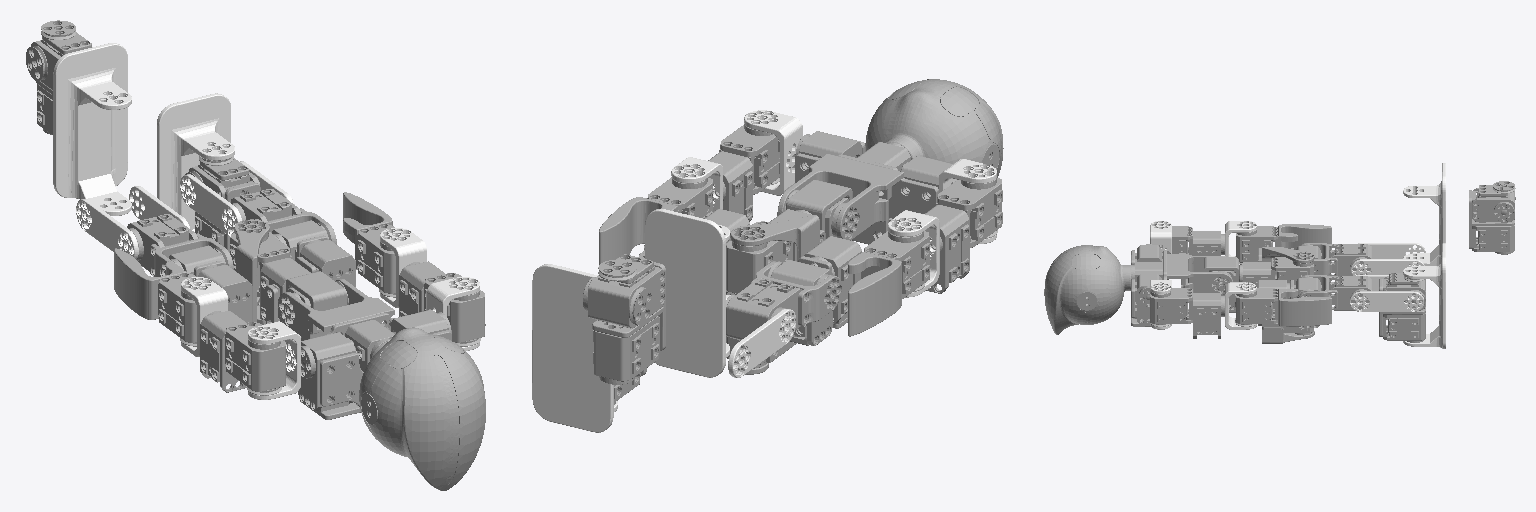
--- Facts derived from the render (not from the file) ---
The picture shows the robot from 3 angles, left to right: view 1: azimuth 30°, elevation 25°; view 2: azimuth 150°, elevation 25°; view 3: azimuth 270°, elevation 25°; orthographic projection.
Model Fendi_humanoid with 24 links and 23 joints (22 revolute, 1 continuous), rooted at pelvis, posed every joint at zero.
Visible links, largest first — view 1: head, l_foot, chest, r_foot, l_shoulder_motor, l_forearm, r_forearm, r_shoulder_motor, l_hip, l_ankle, l_thigh, l_knee (+12 smaller); view 2: l_foot, r_foot, chest, head, l_ankle, l_forearm, l_shoulder_motor, l_thigh, r_forearm, r_shoulder_motor, l_hip, pelvis (+8 smaller); view 3: head, chest, r_forearm, l_ankle, r_shoulder_motor, r_ankle, l_forearm, pelvis, l_knee, l_thigh, r_knee, r_foot (+8 smaller).
Link boxes in pixels (box(x1,y1,x2,y2)): head: box(359, 327, 485, 490); l_foot: box(53, 43, 131, 215); chest: box(278, 279, 451, 419); r_foot: box(157, 93, 234, 231); l_shoulder_motor: box(200, 311, 285, 395); l_forearm: box(114, 248, 196, 346); r_forearm: box(343, 192, 395, 297); r_shoulder_motor: box(399, 261, 485, 346); l_hip: box(198, 219, 269, 322); l_ankle: box(26, 20, 91, 134); l_thigh: box(127, 214, 233, 276); l_knee: box(76, 186, 189, 259); l_foot: box(645, 209, 729, 377); r_foot: box(532, 264, 617, 432); chest: box(777, 131, 952, 244); head: box(865, 79, 1003, 177); l_ankle: box(583, 254, 665, 384); l_forearm: box(848, 231, 929, 336); l_shoulder_motor: box(925, 178, 1002, 293); l_thigh: box(726, 261, 841, 340); r_forearm: box(599, 177, 712, 264); r_shoulder_motor: box(708, 124, 779, 221); l_hip: box(730, 215, 861, 328); pelvis: box(726, 209, 825, 368); head: box(1044, 245, 1130, 334); chest: box(1131, 244, 1232, 326); r_forearm: box(1235, 288, 1331, 326); l_ankle: box(1469, 181, 1515, 254); r_shoulder_motor: box(1150, 288, 1224, 338); r_ankle: box(1379, 273, 1425, 342); l_forearm: box(1235, 224, 1331, 264); pelvis: box(1239, 257, 1313, 335); l_knee: box(1351, 243, 1425, 275); l_thigh: box(1301, 243, 1371, 275); r_knee: box(1350, 275, 1423, 311); r_foot: box(1403, 243, 1445, 348).
Size in the robot's own frame: 0.1546 by 0.3968 by 0.1386 metres.
Meshes: 24 distinct files referenced, 24 mesh visuals loaded (24 binary STL).

URDF robot description (Fendi_humanoid):
<robot
  name="Fendi_humanoid">
  <link
    name="pelvis">
    <inertial>
      <origin
        xyz="0.0410669745819321 -0.0379110717402652 0.0421828125034158"
        rpy="0 0 0" />
      <mass
        value="0.0572942260553945" />
      <inertia
        ixx="3.65121025707978E-05"
        ixy="2.9900783694598E-07"
        ixz="4.85882286230638E-07"
        iyy="2.12489482613664E-05"
        iyz="-3.35587468839814E-06"
        izz="2.000430429396E-05" />
    </inertial>
    <visual>
      <origin
        xyz="0 0 0"
        rpy="0 0 0" />
      <geometry>
        <mesh
          filename="package://meshes/pelvis.STL" />
      </geometry>
      <material
        name="">
        <color
          rgba="0.752941176470588 0.752941176470588 0.752941176470588 1" />
      </material>
    </visual>
    <collision>
      <origin
        xyz="0 0 0"
        rpy="0 0 0" />
      <geometry>
        <mesh
          filename="package://meshes/pelvis.STL" />
      </geometry>
    </collision>
  </link>
  <link
    name="l_hip">
    <inertial>
      <origin
        xyz="-0.0270835640140282 0.0231158477663268 0.0237291455019634"
        rpy="0 0 0" />
      <mass
        value="0.0238887563110607" />
      <inertia
        ixx="5.49518226158328E-06"
        ixy="6.8290703807493E-07"
        ixz="-1.00493628454709E-06"
        iyy="4.44318183140713E-06"
        iyz="-4.3109955469561E-07"
        izz="6.2772843076379E-06" />
    </inertial>
    <visual>
      <origin
        xyz="0 0 0"
        rpy="0 0 0" />
      <geometry>
        <mesh
          filename="package://meshes/l_hip.STL" />
      </geometry>
      <material
        name="">
        <color
          rgba="0.752941176470588 0.752941176470588 0.752941176470588 1" />
      </material>
    </visual>
    <collision>
      <origin
        xyz="0 0 0"
        rpy="0 0 0" />
      <geometry>
        <mesh
          filename="package://meshes/l_hip.STL" />
      </geometry>
    </collision>
  </link>
  <joint
    name="l_hip_y"
    type="revolute">
    <origin
      xyz="0.0416518518525676 -0.0188002160308141 0.0267433423130832"
      rpy="1.5707963267949 0 0" />
    <parent
      link="pelvis" />
    <child
      link="l_hip" />
    <axis
      xyz="0 -1 0" />
  </joint>
  <link
    name="l_hip_motor">
    <inertial>
      <origin
        xyz="-6.01409748791065E-05 -0.00776762181170506 -0.00281391609679076"
        rpy="0 0 0" />
      <mass
        value="0.0191896773969032" />
      <inertia
        ixx="2.72857317938081E-06"
        ixy="-1.41373715165931E-08"
        ixz="1.36917622383183E-09"
        iyy="1.92531751945142E-06"
        iyz="-8.27044796155279E-08"
        izz="2.84890029696111E-06" />
    </inertial>
    <visual>
      <origin
        xyz="0 0 0"
        rpy="0 0 0" />
      <geometry>
        <mesh
          filename="package://meshes/l_hip_motor.STL" />
      </geometry>
      <material
        name="">
        <color
          rgba="0.752941176470588 0.752941176470588 0.752941176470588 1" />
      </material>
    </visual>
    <collision>
      <origin
        xyz="0 0 0"
        rpy="0 0 0" />
      <geometry>
        <mesh
          filename="package://meshes/l_hip_motor.STL" />
      </geometry>
    </collision>
  </link>
  <joint
    name="l_hip_motor_z"
    type="revolute">
    <origin
      xyz="-0.0319999999999984 0.03 0"
      rpy="0 0 0" />
    <parent
      link="l_hip" />
    <child
      link="l_hip_motor" />
    <axis
      xyz="0 0 -1" />
  </joint>
  <link
    name="l_thigh">
    <inertial>
      <origin
        xyz="-8.92757280601675E-09 -0.0335554544923508 -5.61776243110483E-05"
        rpy="0 0 0" />
      <mass
        value="0.0205479194607194" />
      <inertia
        ixx="5.39136068968386E-06"
        ixy="-2.47620945227249E-12"
        ixz="-1.88429695992604E-11"
        iyy="2.40527919108636E-06"
        iyz="1.83766538429752E-08"
        izz="4.40731135554231E-06" />
    </inertial>
    <visual>
      <origin
        xyz="0 0 0"
        rpy="0 0 0" />
      <geometry>
        <mesh
          filename="package://meshes/l_thigh.STL" />
      </geometry>
      <material
        name="">
        <color
          rgba="0.752941176470588 0.752941176470588 0.752941176470588 1" />
      </material>
    </visual>
    <collision>
      <origin
        xyz="0 0 0"
        rpy="0 0 0" />
      <geometry>
        <mesh
          filename="package://meshes/l_thigh.STL" />
      </geometry>
    </collision>
  </link>
  <joint
    name="l_thigh_x"
    type="revolute">
    <origin
      xyz="0 0 -0.00400000000000341"
      rpy="1.5707963267949 0 1.5707963267949" />
    <parent
      link="l_hip_motor" />
    <child
      link="l_thigh" />
    <axis
      xyz="0 0 -1" />
  </joint>
  <link
    name="l_knee">
    <inertial>
      <origin
        xyz="-1.07050958375599E-10 0.0225000000000239 6.77062572673748E-15"
        rpy="0 0 0" />
      <mass
        value="0.00513087567995406" />
      <inertia
        ixx="2.59601739840765E-06"
        ixy="2.71910445336982E-19"
        ixz="-2.24165387751632E-19"
        iyy="1.53262832182676E-06"
        iyz="-1.57621864056051E-21"
        izz="1.34541992010939E-06" />
    </inertial>
    <visual>
      <origin
        xyz="0 0 0"
        rpy="0 0 0" />
      <geometry>
        <mesh
          filename="package://meshes/l_knee.STL" />
      </geometry>
      <material
        name="">
        <color
          rgba="1 1 1 1" />
      </material>
    </visual>
    <collision>
      <origin
        xyz="0 0 0"
        rpy="0 0 0" />
      <geometry>
        <mesh
          filename="package://meshes/l_knee.STL" />
      </geometry>
    </collision>
  </link>
  <joint
    name="l_knee_x"
    type="continuous">
    <origin
      xyz="0 -0.0449999999999764 0"
      rpy="-3.14159265358979 0 0" />
    <parent
      link="l_thigh" />
    <child
      link="l_knee" />
    <axis
      xyz="0 0 1" />
  </joint>
  <link
    name="l_ankle">
    <inertial>
      <origin
        xyz="0.0124831744421505 0.00877126170541725 -0.000110062280334439"
        rpy="0 0 0" />
      <mass
        value="0.0401544687611881" />
      <inertia
        ixx="6.22341129865557E-06"
        ixy="1.13806252097559E-07"
        ixz="-3.6295522775002E-08"
        iyy="1.1354072686787E-05"
        iyz="2.17409044982689E-08"
        izz="1.39792054648314E-05" />
    </inertial>
    <visual>
      <origin
        xyz="0 0 0"
        rpy="0 0 0" />
      <geometry>
        <mesh
          filename="package://meshes/l_ankle.STL" />
      </geometry>
      <material
        name="">
        <color
          rgba="0.752941176470588 0.752941176470588 0.752941176470588 1" />
      </material>
    </visual>
    <collision>
      <origin
        xyz="0 0 0"
        rpy="0 0 0" />
      <geometry>
        <mesh
          filename="package://meshes/l_ankle.STL" />
      </geometry>
    </collision>
  </link>
  <joint
    name="l_ankle_x"
    type="revolute">
    <origin
      xyz="0 0.0450000000000011 0"
      rpy="3.46944695195361E-16 0 3.14159265358979" />
    <parent
      link="l_knee" />
    <child
      link="l_ankle" />
    <axis
      xyz="0 0 1" />
  </joint>
  <link
    name="l_foot">
    <inertial>
      <origin
        xyz="-0.00642333988990459 0.0209235049680599 3.33167952695276E-05"
        rpy="0 0 0" />
      <mass
        value="0.0202605378538181" />
      <inertia
        ixx="3.14268429568419E-06"
        ixy="3.92584853218248E-07"
        ixz="-3.79765019585263E-09"
        iyy="1.48123918460857E-05"
        iyz="4.33508550121308E-10"
        izz="1.35313300236987E-05" />
    </inertial>
    <visual>
      <origin
        xyz="0 0 0"
        rpy="0 0 0" />
      <geometry>
        <mesh
          filename="package://meshes/l_foot.STL" />
      </geometry>
      <material
        name="">
        <color
          rgba="1 1 1 1" />
      </material>
    </visual>
    <collision>
      <origin
        xyz="0 0 0"
        rpy="0 0 0" />
      <geometry>
        <mesh
          filename="package://meshes/l_foot.STL" />
      </geometry>
    </collision>
  </link>
  <joint
    name="l_foot_y"
    type="revolute">
    <origin
      xyz="0 0 -0.000199999999993367"
      rpy="2.94902990916057E-15 0 3.14159265358979" />
    <parent
      link="l_ankle" />
    <child
      link="l_foot" />
    <axis
      xyz="-1 0 0" />
  </joint>
  <link
    name="r_hip">
    <inertial>
      <origin
        xyz="0.0267918410324553 0.0384453640375394 0.0237344523826482"
        rpy="0 0 0" />
      <mass
        value="0.0247517363559943" />
      <inertia
        ixx="7.94295695056937E-06"
        ixy="2.1425049431127E-06"
        ixz="1.03734145559542E-06"
        iyy="4.5972428305968E-06"
        iyz="8.17998732601026E-07"
        izz="8.74766806042518E-06" />
    </inertial>
    <visual>
      <origin
        xyz="0 0 0"
        rpy="0 0 0" />
      <geometry>
        <mesh
          filename="package://meshes/r_hip.STL" />
      </geometry>
      <material
        name="">
        <color
          rgba="0.752941176470588 0.752941176470588 0.752941176470588 1" />
      </material>
    </visual>
    <collision>
      <origin
        xyz="0 0 0"
        rpy="0 0 0" />
      <geometry>
        <mesh
          filename="package://meshes/r_hip.STL" />
      </geometry>
    </collision>
  </link>
  <joint
    name="r_hipy"
    type="revolute">
    <origin
      xyz="0.0416518518525676 -0.0188002160308141 0.00374334231308317"
      rpy="1.5707963267949 0 0" />
    <parent
      link="pelvis" />
    <child
      link="r_hip" />
    <axis
      xyz="0 -1 0" />
  </joint>
  <link
    name="r_hip_motor">
    <inertial>
      <origin
        xyz="-6.01409748823556E-05 -0.00776762181170462 -0.00281391609678699"
        rpy="0 0 0" />
      <mass
        value="0.0191896773969032" />
      <inertia
        ixx="2.72857317938081E-06"
        ixy="-1.4137371516593E-08"
        ixz="1.36917622383048E-09"
        iyy="1.92531751945142E-06"
        iyz="-8.27044796155279E-08"
        izz="2.84890029696111E-06" />
    </inertial>
    <visual>
      <origin
        xyz="0 0 0"
        rpy="0 0 0" />
      <geometry>
        <mesh
          filename="package://meshes/r_hip_motor.STL" />
      </geometry>
      <material
        name="">
        <color
          rgba="0.752941176470588 0.752941176470588 0.752941176470588 1" />
      </material>
    </visual>
    <collision>
      <origin
        xyz="0 0 0"
        rpy="0 0 0" />
      <geometry>
        <mesh
          filename="package://meshes/r_hip_motor.STL" />
      </geometry>
    </collision>
  </link>
  <joint
    name="r_hip_motor_z"
    type="revolute">
    <origin
      xyz="0.0319999970253307 0.053 0"
      rpy="0 0 0" />
    <parent
      link="r_hip" />
    <child
      link="r_hip_motor" />
    <axis
      xyz="0 0 -1" />
  </joint>
  <link
    name="r_thigh">
    <inertial>
      <origin
        xyz="-8.92757523462961E-09 -0.0335554544923748 -5.61776243046541E-05"
        rpy="0 0 0" />
      <mass
        value="0.0205479194607194" />
      <inertia
        ixx="5.39136068968386E-06"
        ixy="-2.47620920001816E-12"
        ixz="-1.88429697745238E-11"
        iyy="2.40527919108636E-06"
        iyz="1.83766538429764E-08"
        izz="4.4073113555423E-06" />
    </inertial>
    <visual>
      <origin
        xyz="0 0 0"
        rpy="0 0 0" />
      <geometry>
        <mesh
          filename="package://meshes/r_thigh.STL" />
      </geometry>
      <material
        name="">
        <color
          rgba="0.752941176470588 0.752941176470588 0.752941176470588 1" />
      </material>
    </visual>
    <collision>
      <origin
        xyz="0 0 0"
        rpy="0 0 0" />
      <geometry>
        <mesh
          filename="package://meshes/r_thigh.STL" />
      </geometry>
    </collision>
  </link>
  <joint
    name="r_thigh_x"
    type="revolute">
    <origin
      xyz="0 0 -0.00399999999999812"
      rpy="1.5707963267949 0 1.57079632679491" />
    <parent
      link="r_hip_motor" />
    <child
      link="r_thigh" />
    <axis
      xyz="0 0 -1" />
  </joint>
  <link
    name="r_knee">
    <inertial>
      <origin
        xyz="-1.07040286356774E-10 -0.0225000000000002 -3.7470027081099E-16"
        rpy="0 0 0" />
      <mass
        value="0.00513087567995406" />
      <inertia
        ixx="2.59601739840765E-06"
        ixy="-1.79489971205421E-19"
        ixz="-5.58025164073407E-22"
        iyy="1.53262832182676E-06"
        iyz="-2.36102670529451E-21"
        izz="1.34541992010939E-06" />
    </inertial>
    <visual>
      <origin
        xyz="0 0 0"
        rpy="0 0 0" />
      <geometry>
        <mesh
          filename="package://meshes/r_knee.STL" />
      </geometry>
      <material
        name="">
        <color
          rgba="1 1 1 1" />
      </material>
    </visual>
    <collision>
      <origin
        xyz="0 0 0"
        rpy="0 0 0" />
      <geometry>
        <mesh
          filename="package://meshes/r_knee.STL" />
      </geometry>
    </collision>
  </link>
  <joint
    name="r_knee_x"
    type="revolute">
    <origin
      xyz="0 -0.0450000000000016 0"
      rpy="1.38777878078145E-15 1.38777878078145E-15 1.34815096107107E-29" />
    <parent
      link="r_thigh" />
    <child
      link="r_knee" />
    <axis
      xyz="0 0 -1" />
  </joint>
  <link
    name="r_ankle">
    <inertial>
      <origin
        xyz="0.0124831744421376 0.00877126170544446 -0.000110062280338594"
        rpy="0 0 0" />
      <mass
        value="0.0401544687611881" />
      <inertia
        ixx="6.22341129865557E-06"
        ixy="1.13806252097998E-07"
        ixz="-3.62955227736177E-08"
        iyy="1.1354072686787E-05"
        iyz="2.1740904498283E-08"
        izz="1.39792054648314E-05" />
    </inertial>
    <visual>
      <origin
        xyz="0 0 0"
        rpy="0 0 0" />
      <geometry>
        <mesh
          filename="package://meshes/r_ankle.STL" />
      </geometry>
      <material
        name="">
        <color
          rgba="0.752941176470588 0.752941176470588 0.752941176470588 1" />
      </material>
    </visual>
    <collision>
      <origin
        xyz="0 0 0"
        rpy="0 0 0" />
      <geometry>
        <mesh
          filename="package://meshes/r_ankle.STL" />
      </geometry>
    </collision>
  </link>
  <joint
    name="r_ankle_x"
    type="revolute">
    <origin
      xyz="0 -0.0450000000000004 0"
      rpy="-3.14159265358979 1.38777878078145E-15 3.14159265358979" />
    <parent
      link="r_knee" />
    <child
      link="r_ankle" />
    <axis
      xyz="0 0 1" />
  </joint>
  <link
    name="r_foot">
    <inertial>
      <origin
        xyz="-0.0064233398899067 0.020923504968057 3.33167952701469E-05"
        rpy="0 0 0" />
      <mass
        value="0.0202605378538181" />
      <inertia
        ixx="3.14268429568439E-06"
        ixy="3.92584853219291E-07"
        ixz="-3.79765019771603E-09"
        iyy="1.48123918460858E-05"
        iyz="4.33508550050295E-10"
        izz="1.35313300236987E-05" />
    </inertial>
    <visual>
      <origin
        xyz="0 0 0"
        rpy="0 0 0" />
      <geometry>
        <mesh
          filename="package://meshes/r_foot.STL" />
      </geometry>
      <material
        name="">
        <color
          rgba="1 1 1 1" />
      </material>
    </visual>
    <collision>
      <origin
        xyz="0 0 0"
        rpy="0 0 0" />
      <geometry>
        <mesh
          filename="package://meshes/r_foot.STL" />
      </geometry>
    </collision>
  </link>
  <joint
    name="r_foot_y"
    type="revolute">
    <origin
      xyz="0 0 -0.000199999999999714"
      rpy="1.38777878078145E-15 8.32667268468867E-15 3.14159265358979" />
    <parent
      link="r_ankle" />
    <child
      link="r_foot" />
    <axis
      xyz="-1 0 0" />
  </joint>
  <link
    name="spine">
    <inertial>
      <origin
        xyz="-2.90372371746436E-05 0.014751453992939 0.00718055086354136"
        rpy="0 0 0" />
      <mass
        value="0.0236192598262426" />
      <inertia
        ixx="4.62186731283777E-06"
        ixy="-3.67948960481309E-10"
        ixz="1.93443312804237E-08"
        iyy="4.35953212647662E-06"
        iyz="-3.88430201433733E-08"
        izz="2.68872368909863E-06" />
    </inertial>
    <visual>
      <origin
        xyz="0 0 0"
        rpy="0 0 0" />
      <geometry>
        <mesh
          filename="package://meshes/spine.STL" />
      </geometry>
      <material
        name="">
        <color
          rgba="0.752941176470588 0.752941176470588 0.752941176470588 1" />
      </material>
    </visual>
    <collision>
      <origin
        xyz="0 0 0"
        rpy="0 0 0" />
      <geometry>
        <mesh
          filename="package://meshes/spine.STL" />
      </geometry>
    </collision>
  </link>
  <joint
    name="spine_z"
    type="revolute">
    <origin
      xyz="0.0416518518525676 -0.0728002160308141 0.0587433423130832"
      rpy="3.14159265358979 0 0" />
    <parent
      link="pelvis" />
    <child
      link="spine" />
    <axis
      xyz="0 -1 0" />
  </joint>
  <link
    name="chest">
    <inertial>
      <origin
        xyz="0.000252471454000917 -0.00852294522132094 0.0542243023374223"
        rpy="0 0 0" />
      <mass
        value="0.0758588949423129" />
      <inertia
        ixx="2.56332767250059E-05"
        ixy="7.18911942840476E-08"
        ixz="-3.54664111742847E-08"
        iyy="5.81073301842715E-05"
        iyz="-1.67290555589558E-06"
        izz="4.66499678939429E-05" />
    </inertial>
    <visual>
      <origin
        xyz="0 0 0"
        rpy="0 0 0" />
      <geometry>
        <mesh
          filename="package://meshes/chest.STL" />
      </geometry>
      <material
        name="">
        <color
          rgba="0.752941176470588 0.752941176470588 0.752941176470588 1" />
      </material>
    </visual>
    <collision>
      <origin
        xyz="0 0 0"
        rpy="0 0 0" />
      <geometry>
        <mesh
          filename="package://meshes/chest.STL" />
      </geometry>
    </collision>
  </link>
  <joint
    name="chest_x"
    type="revolute">
    <origin
      xyz="0 0.0150000000000001 0"
      rpy="-1.5707963267949 0 0" />
    <parent
      link="spine" />
    <child
      link="chest" />
    <axis
      xyz="-1 0 0" />
  </joint>
  <link
    name="l_shoulder">
    <inertial>
      <origin
        xyz="0.00738135253741493 0.00997571314910811 -0.00170181429281047"
        rpy="0 0 0" />
      <mass
        value="0.00334368326561231" />
      <inertia
        ixx="7.55281237044274E-07"
        ixy="2.8731821621229E-15"
        ixz="1.18138638921604E-09"
        iyy="8.36222428966546E-07"
        iyz="-2.90492257872544E-16"
        izz="2.71216334384524E-07" />
    </inertial>
    <visual>
      <origin
        xyz="0 0 0"
        rpy="0 0 0" />
      <geometry>
        <mesh
          filename="package://meshes/l_shoulder.STL" />
      </geometry>
      <material
        name="">
        <color
          rgba="1 1 1 1" />
      </material>
    </visual>
    <collision>
      <origin
        xyz="0 0 0"
        rpy="0 0 0" />
      <geometry>
        <mesh
          filename="package://meshes/l_shoulder.STL" />
      </geometry>
    </collision>
  </link>
  <joint
    name="l_shoulder_x"
    type="revolute">
    <origin
      xyz="-0.0436000000000003 -0.000150337590467807 0.0510000000000027"
      rpy="1.57079632679489 -1.30000271246138E-29 3.14159265358979" />
    <parent
      link="chest" />
    <child
      link="l_shoulder" />
    <axis
      xyz="1 0 0" />
  </joint>
  <link
    name="l_shoulder_motor">
    <inertial>
      <origin
        xyz="-1.23621078329077E-05 -0.0128830851144582 -0.00498956108290476"
        rpy="0 0 0" />
      <mass
        value="0.03371809385647" />
      <inertia
        ixx="1.38412199467415E-05"
        ixy="4.44238047376105E-09"
        ixz="3.61149667125928E-09"
        iyy="3.92279038815673E-06"
        iyz="1.82027066683203E-06"
        izz="1.23612082514476E-05" />
    </inertial>
    <visual>
      <origin
        xyz="0 0 0"
        rpy="0 0 0" />
      <geometry>
        <mesh
          filename="package://meshes/l_shoulder_motor.STL" />
      </geometry>
      <material
        name="">
        <color
          rgba="0.752941176470588 0.752941176470588 0.752941176470588 1" />
      </material>
    </visual>
    <collision>
      <origin
        xyz="0 0 0"
        rpy="0 0 0" />
      <geometry>
        <mesh
          filename="package://meshes/l_shoulder_motor.STL" />
      </geometry>
    </collision>
  </link>
  <joint
    name="l_shoulder_motor_y"
    type="revolute">
    <origin
      xyz="0.0179999999999996 0 0"
      rpy="0 -7.88860905221039E-31 0" />
    <parent
      link="l_shoulder" />
    <child
      link="l_shoulder_motor" />
    <axis
      xyz="0 0 -1" />
  </joint>
  <link
    name="l_upper_arm">
    <inertial>
      <origin
        xyz="-0.0025899919948604 4.39981186303035E-06 0.00172771878621637"
        rpy="0 0 0" />
      <mass
        value="0.00334368326578746" />
      <inertia
        ixx="7.55284120272143E-07"
        ixy="-2.87342029502278E-15"
        ixz="2.87458880084905E-16"
        iyy="8.36222428969735E-07"
        iyz="-2.88095726463528E-16"
        izz="2.71213451173539E-07" />
    </inertial>
    <visual>
      <origin
        xyz="0 0 0"
        rpy="0 0 0" />
      <geometry>
        <mesh
          filename="package://meshes/l_upper_arm.STL" />
      </geometry>
      <material
        name="">
        <color
          rgba="1 1 1 1" />
      </material>
    </visual>
    <collision>
      <origin
        xyz="0 0 0"
        rpy="0 0 0" />
      <geometry>
        <mesh
          filename="package://meshes/l_upper_arm.STL" />
      </geometry>
    </collision>
  </link>
  <joint
    name="l_upper_arm_z"
    type="revolute">
    <origin
      xyz="0 -0.0539999999999975 0"
      rpy="3.14159265358978 2.08166817117217E-15 -1.5707963267949" />
    <parent
      link="l_shoulder_motor" />
    <child
      link="l_upper_arm" />
    <axis
      xyz="1 0 0" />
  </joint>
  <link
    name="l_forearm">
    <inertial>
      <origin
        xyz="0.00275878256206167 -0.00985811408291166 -0.0015128527016696"
        rpy="0 0 0" />
      <mass
        value="0.0257657351354794" />
      <inertia
        ixx="1.28753735465766E-05"
        ixy="-2.09824525987839E-06"
        ixz="-4.15371891487317E-08"
        iyy="2.7091001183806E-06"
        iyz="-4.05301232335937E-08"
        izz="1.28181627224906E-05" />
    </inertial>
    <visual>
      <origin
        xyz="0 0 0"
        rpy="0 0 0" />
      <geometry>
        <mesh
          filename="package://meshes/l_forearm.STL" />
      </geometry>
      <material
        name="">
        <color
          rgba="0.752941176470588 0.752941176470588 0.752941176470588 1" />
      </material>
    </visual>
    <collision>
      <origin
        xyz="0 0 0"
        rpy="0 0 0" />
      <geometry>
        <mesh
          filename="package://meshes/l_forearm.STL" />
      </geometry>
    </collision>
  </link>
  <joint
    name="l_forearm_y"
    type="revolute">
    <origin
      xyz="0.0179999999999999 0 0"
      rpy="3.14159265358977 1.11022302462516E-14 -1.5707963267949" />
    <parent
      link="l_upper_arm" />
    <child
      link="l_forearm" />
    <axis
      xyz="0 0 -1" />
  </joint>
  <link
    name="r_shoulder">
    <inertial>
      <origin
        xyz="0.00747429714567514 -0.00997549115208965 -0.00172772500615242"
        rpy="0 0 0" />
      <mass
        value="0.00334368326561427" />
      <inertia
        ixx="7.55284120264198E-07"
        ixy="2.87395891905956E-15"
        ixz="2.39292795073825E-15"
        iyy="8.36222428966727E-07"
        iyz="-2.92727530068632E-16"
        izz="2.71213451164958E-07" />
    </inertial>
    <visual>
      <origin
        xyz="0 0 0"
        rpy="0 0 0" />
      <geometry>
        <mesh
          filename="package://meshes/r_shoulder.STL" />
      </geometry>
      <material
        name="">
        <color
          rgba="1 1 1 1" />
      </material>
    </visual>
    <collision>
      <origin
        xyz="0 0 0"
        rpy="0 0 0" />
      <geometry>
        <mesh
          filename="package://meshes/r_shoulder.STL" />
      </geometry>
    </collision>
  </link>
  <joint
    name="r_shoulder_x"
    type="revolute">
    <origin
      xyz="0.0439112930179202 0.000107167499561404 0.0510002215817856"
      rpy="-1.5707963267949 -1.69346344342082E-18 0.00244054044922089" />
    <parent
      link="chest" />
    <child
      link="r_shoulder" />
    <axis
      xyz="-1 0 0" />
  </joint>
  <link
    name="r_shoulder_motor">
    <inertial>
      <origin
        xyz="-1.40487807498424E-09 -0.0128833066962265 -0.004989577078733"
        rpy="0 0 0" />
      <mass
        value="0.0337180938564699" />
      <inertia
        ixx="1.38412287593949E-05"
        ixy="-7.25387722603124E-14"
        ixz="-5.6041581103614E-13"
        iyy="3.92279038815671E-06"
        iyz="1.82027608765078E-06"
        izz="1.2361199438794E-05" />
    </inertial>
    <visual>
      <origin
        xyz="0 0 0"
        rpy="0 0 0" />
      <geometry>
        <mesh
          filename="package://meshes/r_shoulder_motor.STL" />
      </geometry>
      <material
        name="">
        <color
          rgba="0.752941176470588 0.752941176470588 0.752941176470588 1" />
      </material>
    </visual>
    <collision>
      <origin
        xyz="0 0 0"
        rpy="0 0 0" />
      <geometry>
        <mesh
          filename="package://meshes/r_shoulder_motor.STL" />
      </geometry>
    </collision>
  </link>
  <joint
    name="r_shoulder_motor_y"
    type="revolute">
    <origin
      xyz="0.0180885762087062 0 0"
      rpy="-9.86076131526265E-32 4.33680868994203E-19 3.14159265358979" />
    <parent
      link="r_shoulder" />
    <child
      link="r_shoulder_motor" />
    <axis
      xyz="0 0 -1" />
  </joint>
  <link
    name="r_upper_arm">
    <inertial>
      <origin
        xyz="-0.00258977041308801 4.21636149137983E-06 0.0017277199190545"
        rpy="0 0 0" />
      <mass
        value="0.00334368326578747" />
      <inertia
        ixx="7.55284120272146E-07"
        ixy="-2.87342748679109E-15"
        ixz="2.87448467173245E-16"
        iyy="8.36222428969737E-07"
        iyz="-2.8810130555489E-16"
        izz="2.7121345117354E-07" />
    </inertial>
    <visual>
      <origin
        xyz="0 0 0"
        rpy="0 0 0" />
      <geometry>
        <mesh
          filename="package://meshes/r_upper_arm.STL" />
      </geometry>
      <material
        name="">
        <color
          rgba="1 1 1 1" />
      </material>
    </visual>
    <collision>
      <origin
        xyz="0 0 0"
        rpy="0 0 0" />
      <geometry>
        <mesh
          filename="package://meshes/r_upper_arm.STL" />
      </geometry>
    </collision>
  </link>
  <joint
    name="r_upper_arm_z"
    type="revolute">
    <origin
      xyz="0 -0.0539999999999969 0"
      rpy="-3.13915211314058 6.9388732390668E-16 -1.5707963267949" />
    <parent
      link="r_shoulder_motor" />
    <child
      link="r_upper_arm" />
    <axis
      xyz="1 0 0" />
  </joint>
  <link
    name="r_forearm">
    <inertial>
      <origin
        xyz="-0.00276742190180321 -0.00985840898574784 -0.00151302551139534"
        rpy="0 0 0" />
      <mass
        value="0.0257657889801188" />
      <inertia
        ixx="1.28754577391738E-05"
        ixy="2.09826471210789E-06"
        ixz="4.15636504949165E-08"
        iyy="2.70910882509485E-06"
        iyz="-4.03467501905181E-08"
        izz="1.28182439095506E-05" />
    </inertial>
    <visual>
      <origin
        xyz="0 0 0"
        rpy="0 0 0" />
      <geometry>
        <mesh
          filename="package://meshes/r_forearm.STL" />
      </geometry>
      <material
        name="">
        <color
          rgba="0.752941176470588 0.752941176470588 0.752941176470588 1" />
      </material>
    </visual>
    <collision>
      <origin
        xyz="0 0 0"
        rpy="0 0 0" />
      <geometry>
        <mesh
          filename="package://meshes/r_forearm.STL" />
      </geometry>
    </collision>
  </link>
  <joint
    name="r_forearm_y"
    type="revolute">
    <origin
      xyz="0.0180000000000033 0 0"
      rpy="-3.14159265358979 2.08166817117217E-14 -1.5707963267949" />
    <parent
      link="r_upper_arm" />
    <child
      link="r_forearm" />
    <axis
      xyz="0 0 -1" />
  </joint>
  <link
    name="head">
    <inertial>
      <origin
        xyz="-2.76686094433098E-06 0.0382668849714797 0.00655496087036832"
        rpy="0 0 0" />
      <mass
        value="0.0229562091454423" />
      <inertia
        ixx="1.90554495558622E-05"
        ixy="-5.76349039056202E-10"
        ixz="9.25663495523869E-11"
        iyy="1.78140887309938E-05"
        iyz="1.63893877728857E-06"
        izz="1.77445479284289E-05" />
    </inertial>
    <visual>
      <origin
        xyz="0 0 0"
        rpy="0 0 0" />
      <geometry>
        <mesh
          filename="package://meshes/head.STL" />
      </geometry>
      <material
        name="">
        <color
          rgba="0.752941176470588 0.752941176470588 0.752941176470588 1" />
      </material>
    </visual>
    <collision>
      <origin
        xyz="0 0 0"
        rpy="0 0 0" />
      <geometry>
        <mesh
          filename="package://meshes/head.STL" />
      </geometry>
    </collision>
  </link>
  <joint
    name="head_z"
    type="revolute">
    <origin
      xyz="0.00020516550046587 -0.00211629613324466 0.0760159797629514"
      rpy="1.59665875812253 6.47649529920312E-05 -6.311126761483E-05" />
    <parent
      link="chest" />
    <child
      link="head" />
    <axis
      xyz="0 -1 0" />
  </joint>
</robot>
